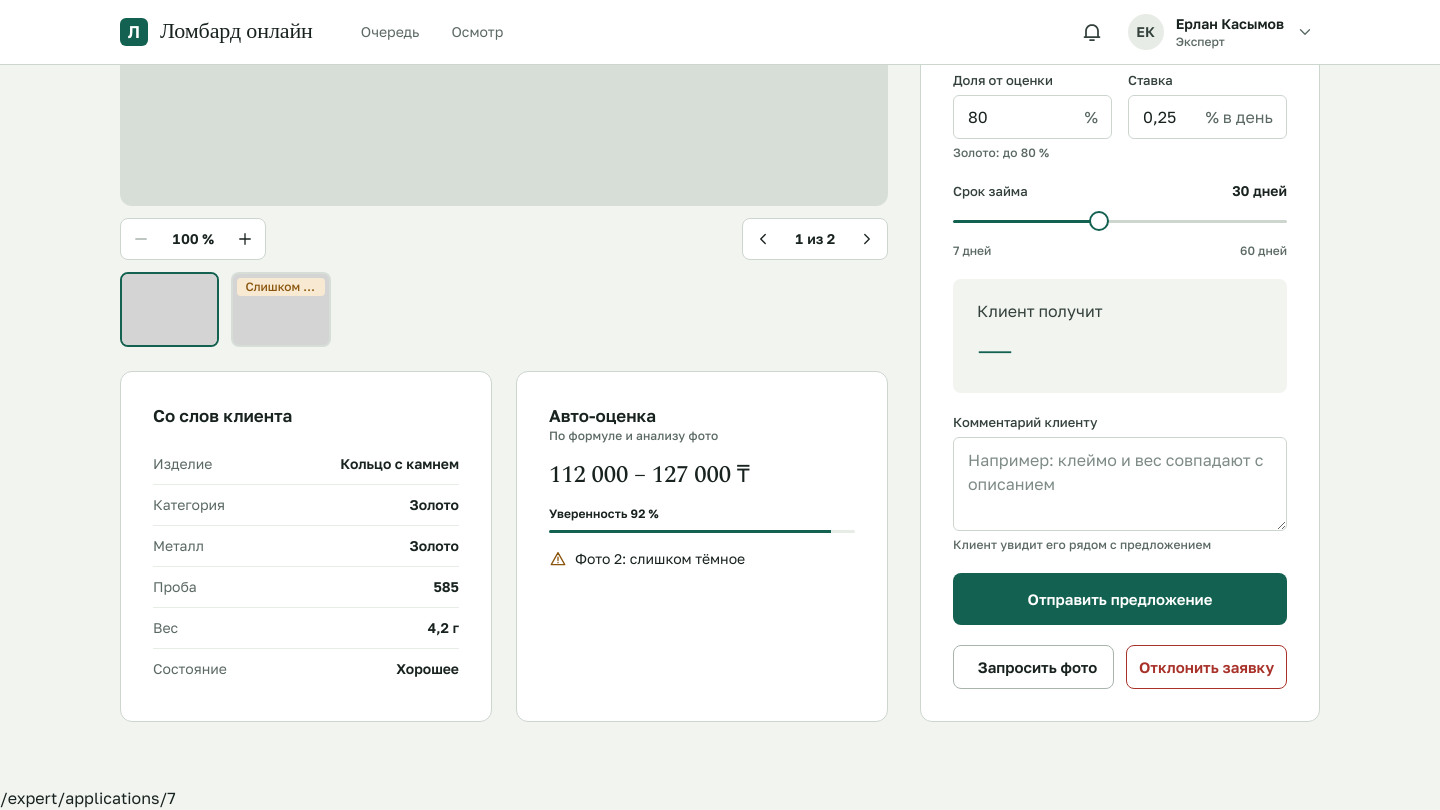
Test: Expert review › requires a comment to request photos
(page scrolled)
Click the button "Запросить фото" at (1034, 667), box x1=953 y1=645 x2=1114 y2=689
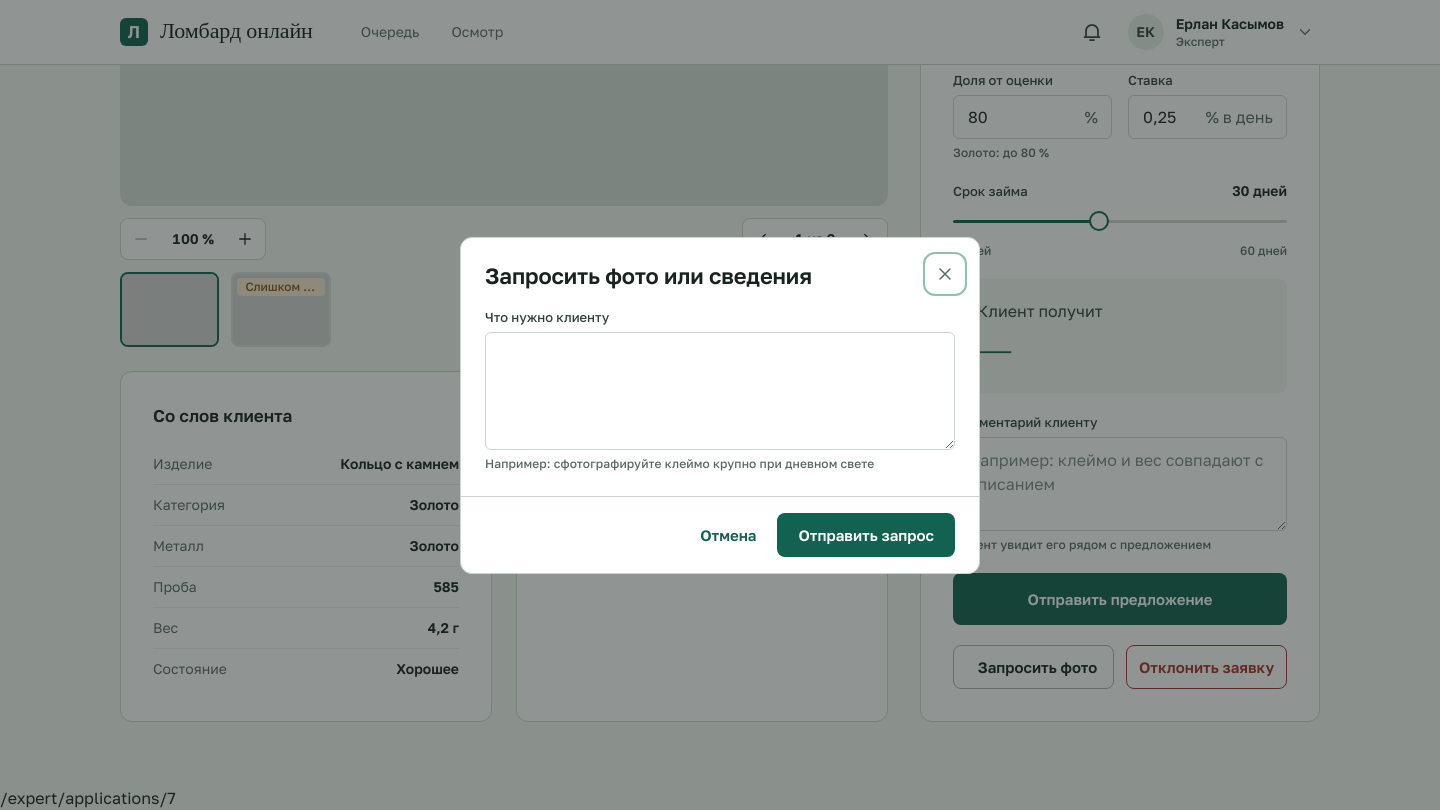
Click the button "Отправить запрос" at (866, 534), box x1=778 y1=512 x2=955 y2=556
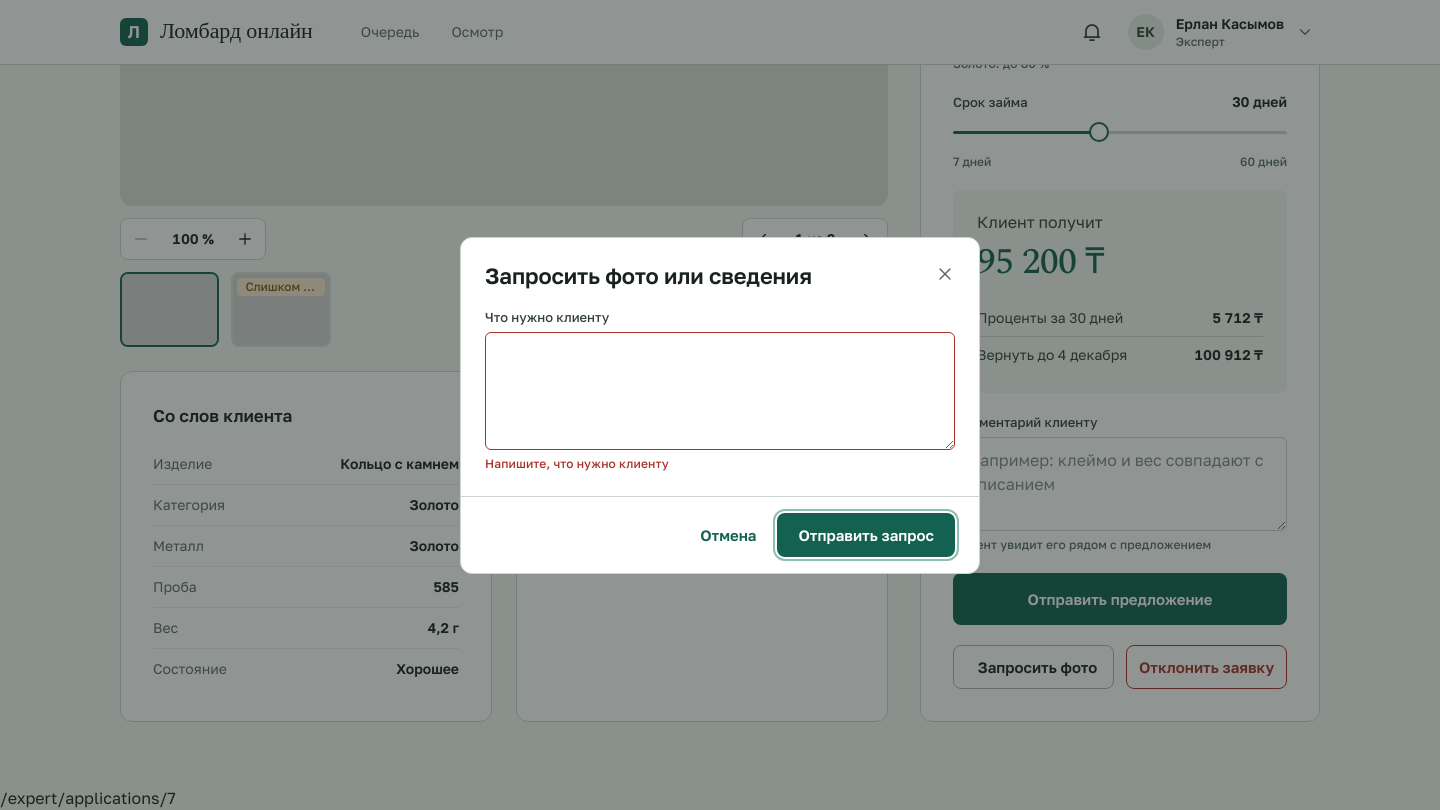
Expected: the text "Напишите, что нужно клиенту" is shown, x1=485 y1=456 x2=669 y2=470
Type "Клеймо крупно" into the text box labelled "Что нужно клиенту" at (720, 390), box x1=485 y1=332 x2=955 y2=450
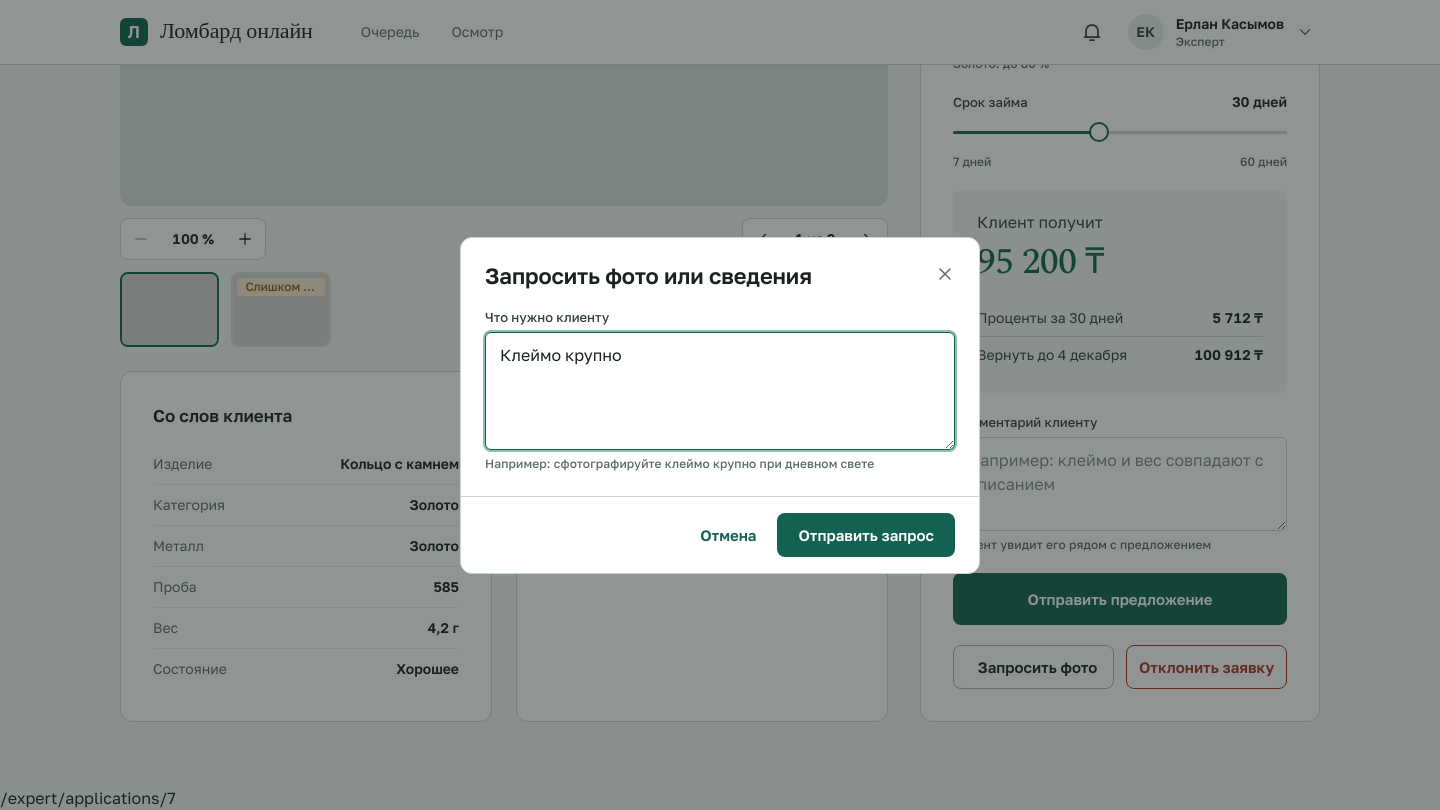
Click the button "Отправить запрос" at (866, 534), box x1=778 y1=512 x2=955 y2=556
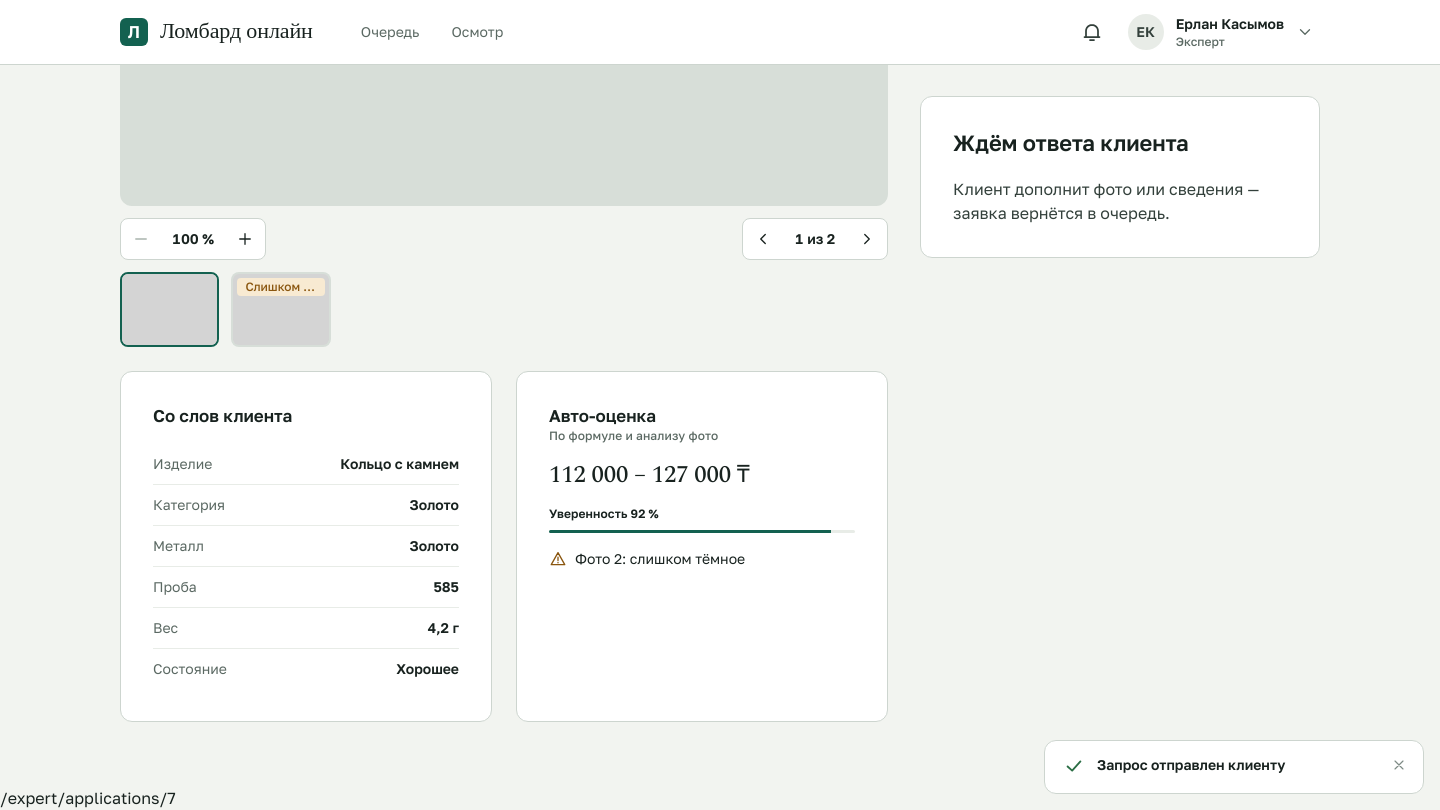
Expected: the heading "Ждём ответа клиента" is shown, x1=953 y1=129 x2=1189 y2=156
